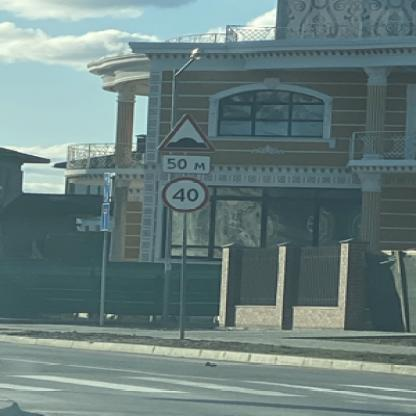speedlimit: (158, 174, 205, 212)
